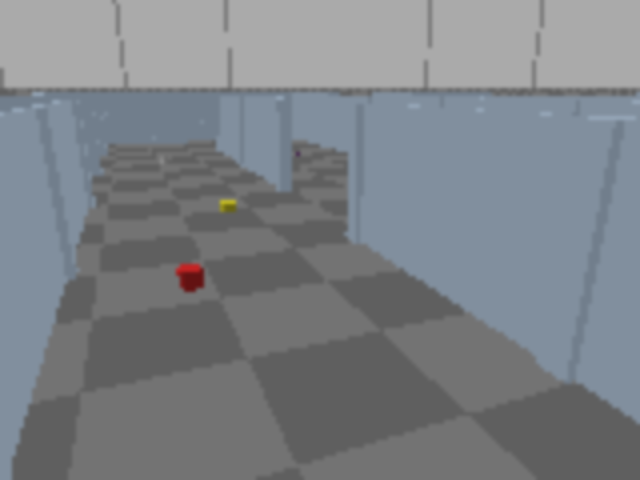puck: (178, 265, 203, 290)
